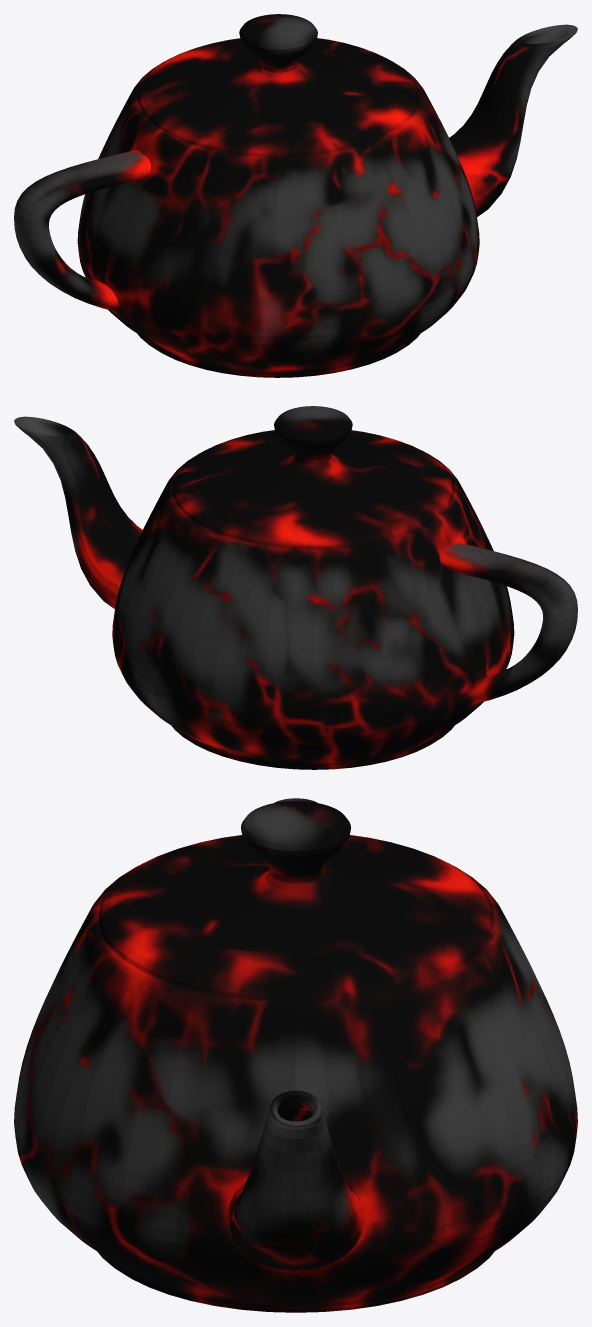
The picture shows the model from 3 angles, top to bottom: view 1: azimuth 30°, elevation 25°; view 2: azimuth 150°, elevation 25°; view 3: azimuth 270°, elevation 25°; orthographic projection. The views are drawn at different scales.
Bounding box in the file's own units: 1 × 0.5124 × 0.6217.
